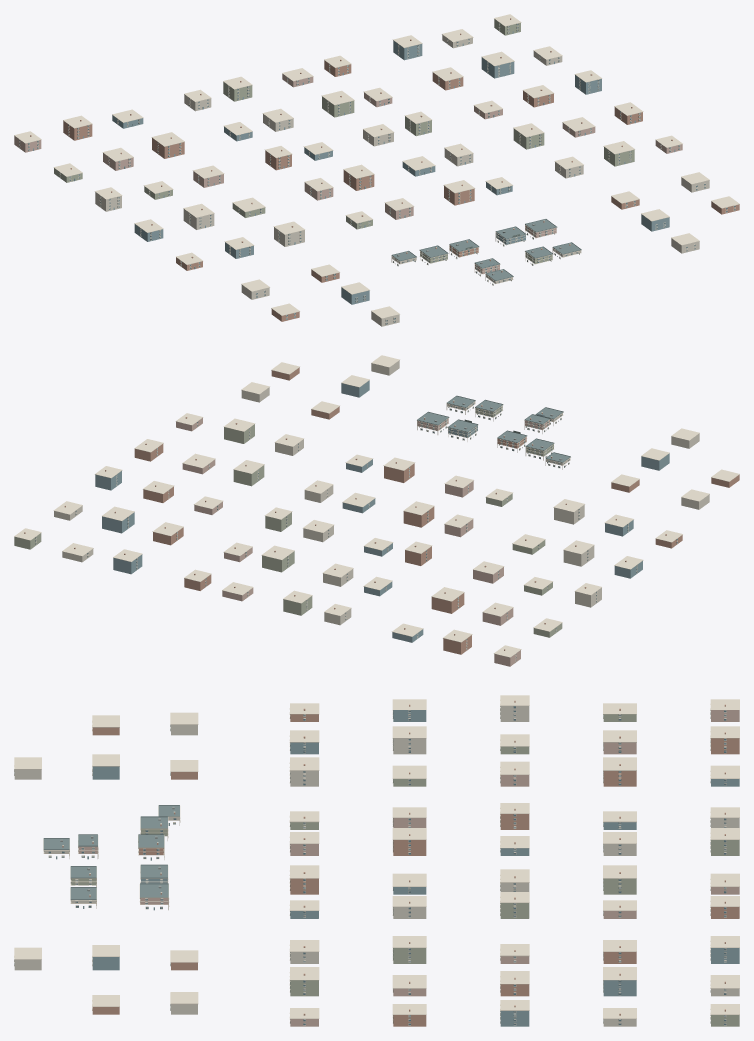
File: town-v7.glb
3 renders of one model, top to bottom at view 1: azimuth 30°, elevation 25°; view 2: azimuth 150°, elevation 25°; view 3: azimuth 270°, elevation 25°, orthographic. The views are drawn at different scales.
Parts seen in each view (by area): view 1: Town_trim, Town_brick, Town_cream, Town_blue, Town_sage, Town_pink, Town_roof, Town_glass, Town_ivory; view 2: Town_trim, Town_brick, Town_cream, Town_blue, Town_sage, Town_pink, Town_roof, Town_glass; view 3: Town_trim, Town_brick, Town_cream, Town_blue, Town_sage, Town_pink, Town_roof, Town_glass.
Part boxes in pixels (x1,y1,x2,y2): Town_trim: (14,14,739,324); Town_brick: (30,18,739,321); Town_cream: (95,35,709,326); Town_blue: (33,31,675,304); Town_sage: (54,19,634,263); Town_pink: (14,74,682,273); Town_roof: (391,219,581,280); Town_glass: (19,23,735,324); Town_ivory: (19,22,735,323); Town_trim: (14,355,739,662); Town_brick: (24,367,739,654); Town_cream: (54,360,709,625); Town_blue: (95,380,669,642); Town_sage: (14,406,562,637); Town_pink: (176,418,549,666); Town_roof: (417,395,570,462); Town_glass: (35,403,677,660); Town_trim: (14,695,739,1025); Town_brick: (62,700,739,1026); Town_cream: (14,706,739,1026); Town_blue: (56,710,739,1026); Town_sage: (71,714,739,1026); Town_pink: (78,710,739,1026); Town_roof: (43,805,179,899); Town_glass: (48,706,726,1025).
Size of the model in its own units: 497 by 13.2 by 483.
